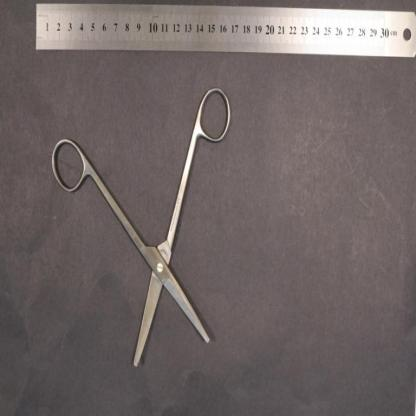Curved Mayo Scissors: (50, 85, 232, 370)
